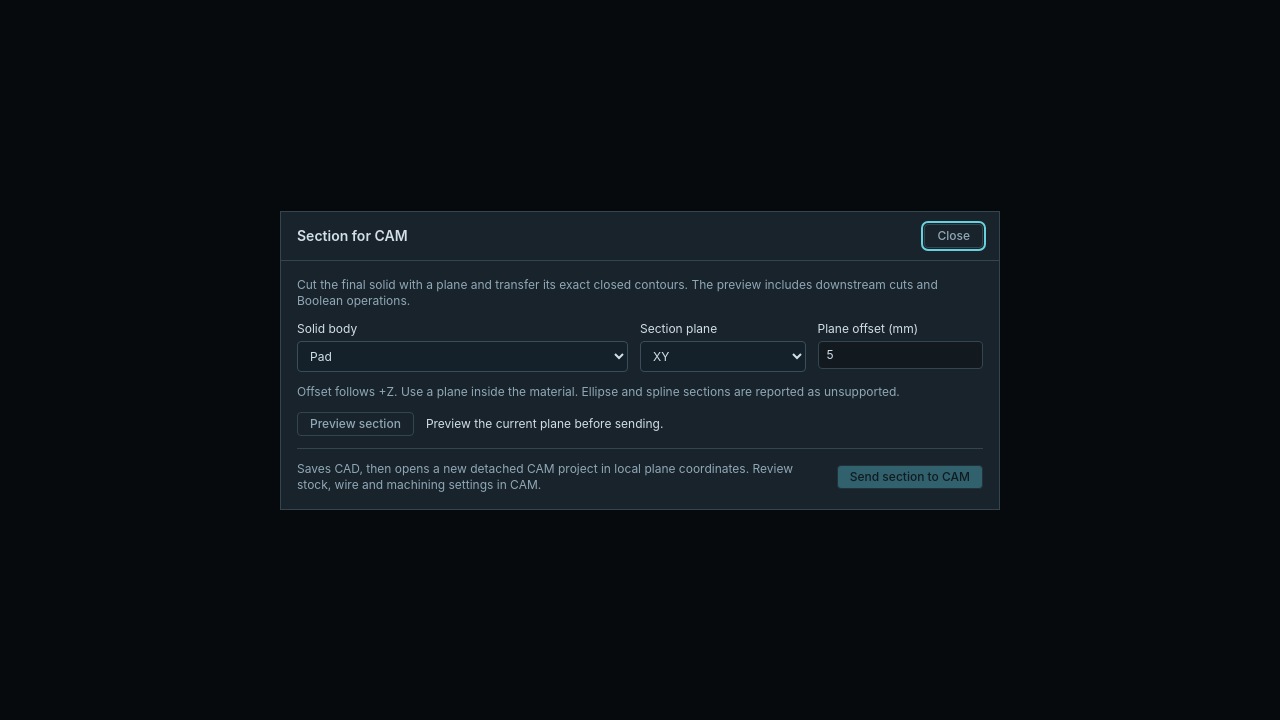
Scenario: aborts outstanding section computation and preserves the dialog on a reported failure
Click the button "Preview section": (355, 424) [297,412,414,436]
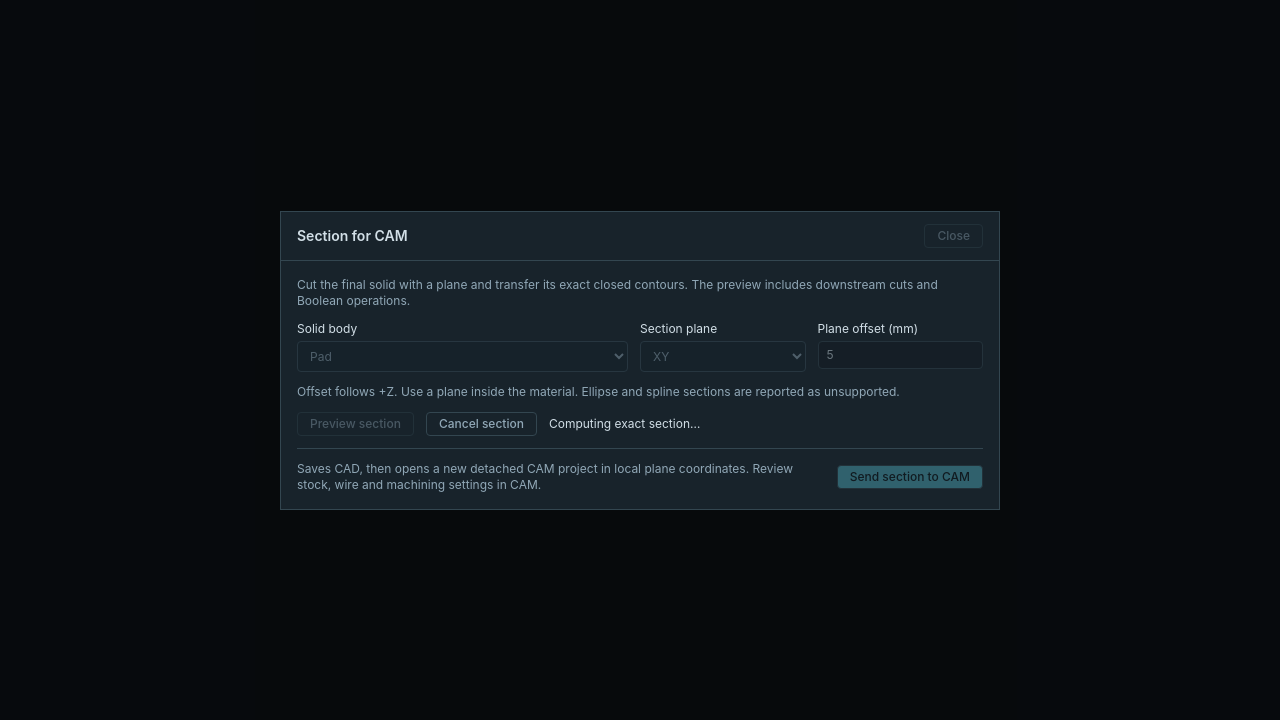
Now the button "Close" is disabled, box [924,224,983,248]
Click the button "Cancel section": (481, 424) [426,412,537,436]
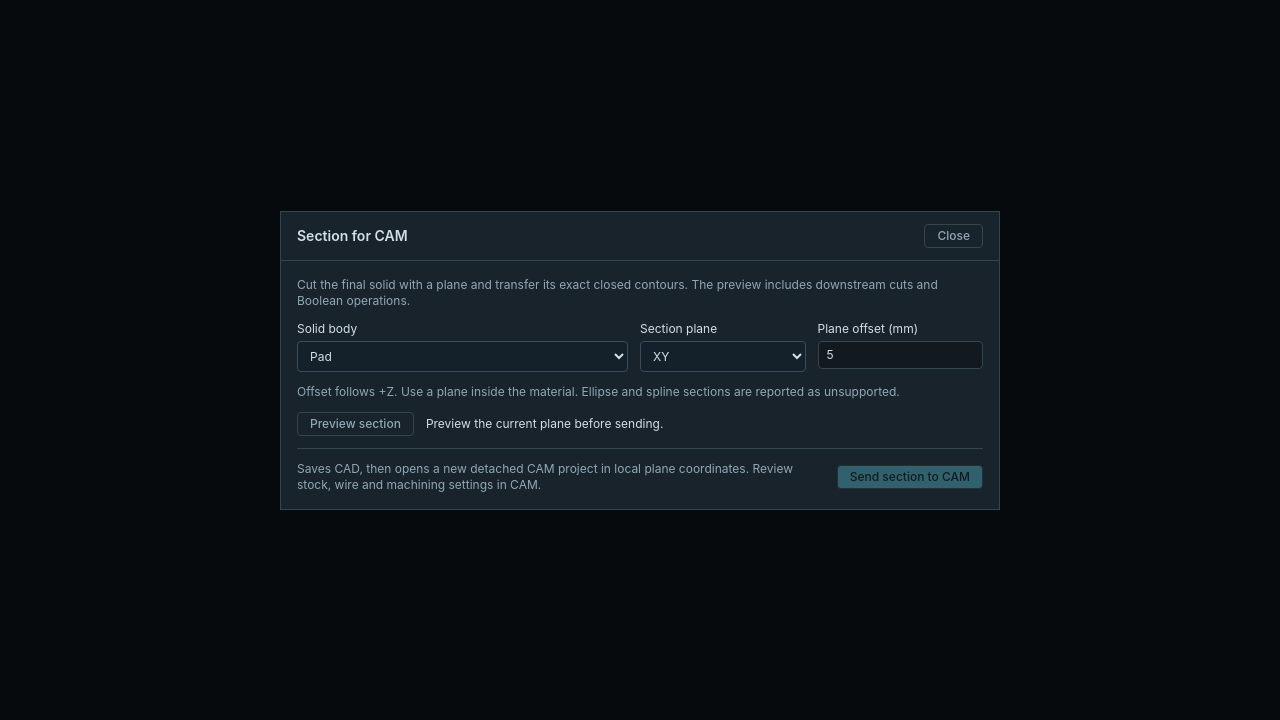
Expected: the button "Send section to CAM" is disabled, [837,464,983,488]
Now the button "Close" is enabled, box [924,224,983,248]
